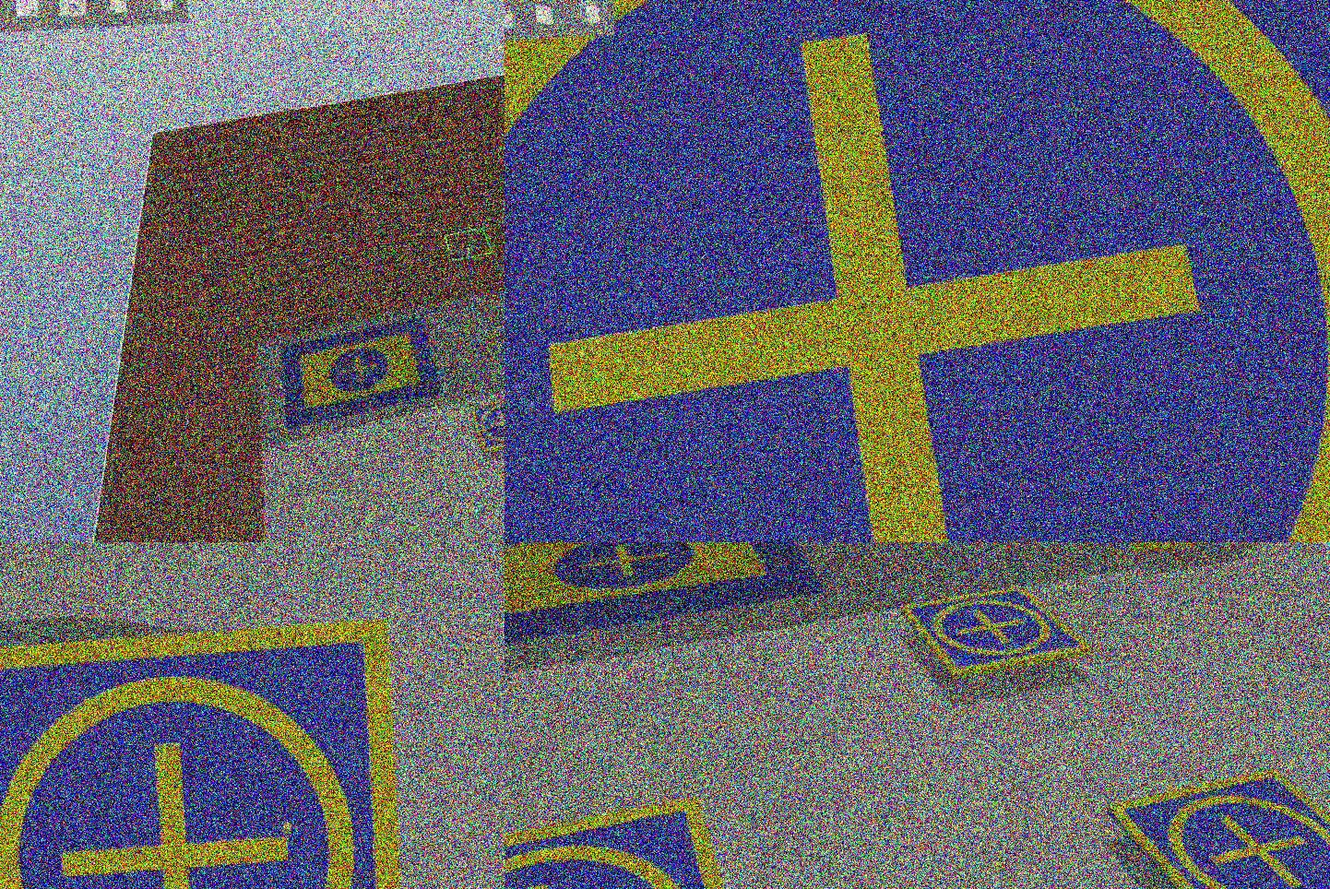large_base: (505, 542, 827, 659), (282, 319, 445, 430)
small_base: (505, 1, 1330, 542), (1, 619, 415, 889), (1109, 764, 1330, 889), (898, 587, 1096, 687), (470, 397, 505, 455)
